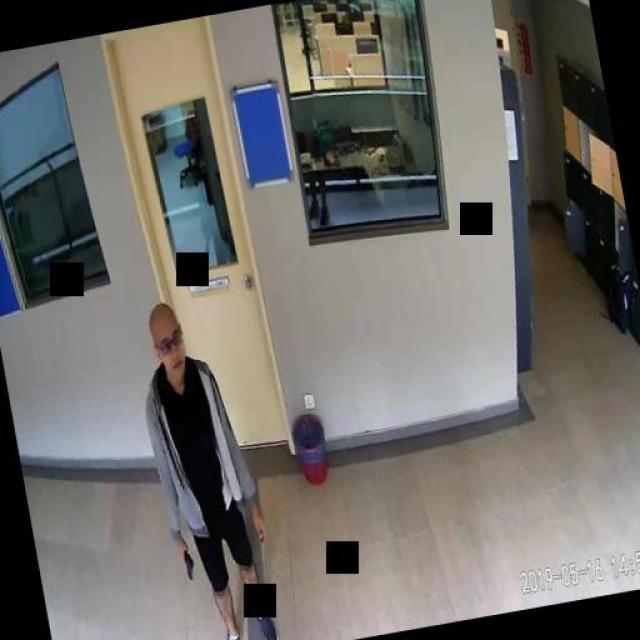gun: (175, 538, 195, 580)
